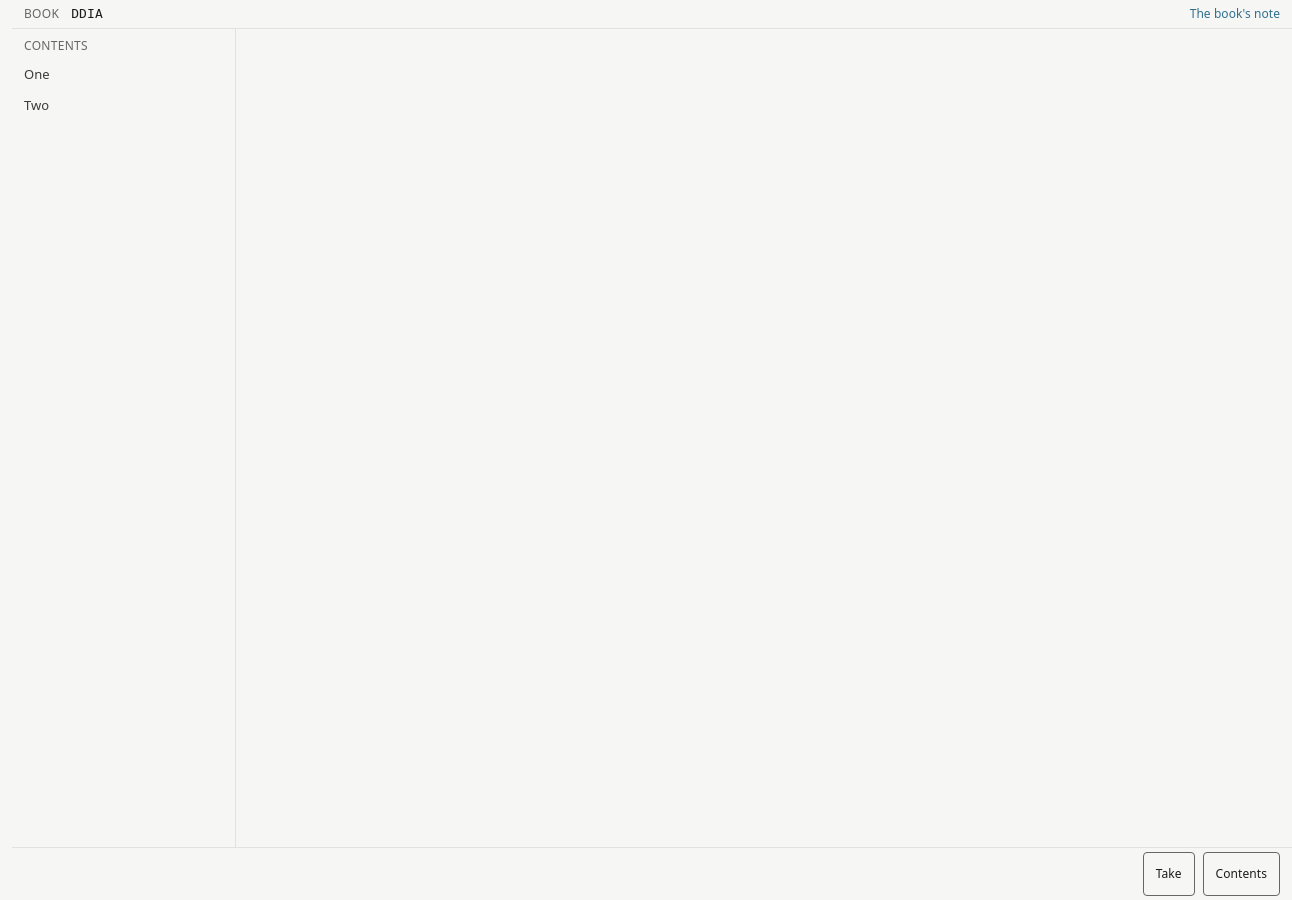
the book pane's take toast › draws the take toast over the text column and not over the footer or a column
Click the button "Take": (1169, 874) [1143,852,1194,896]
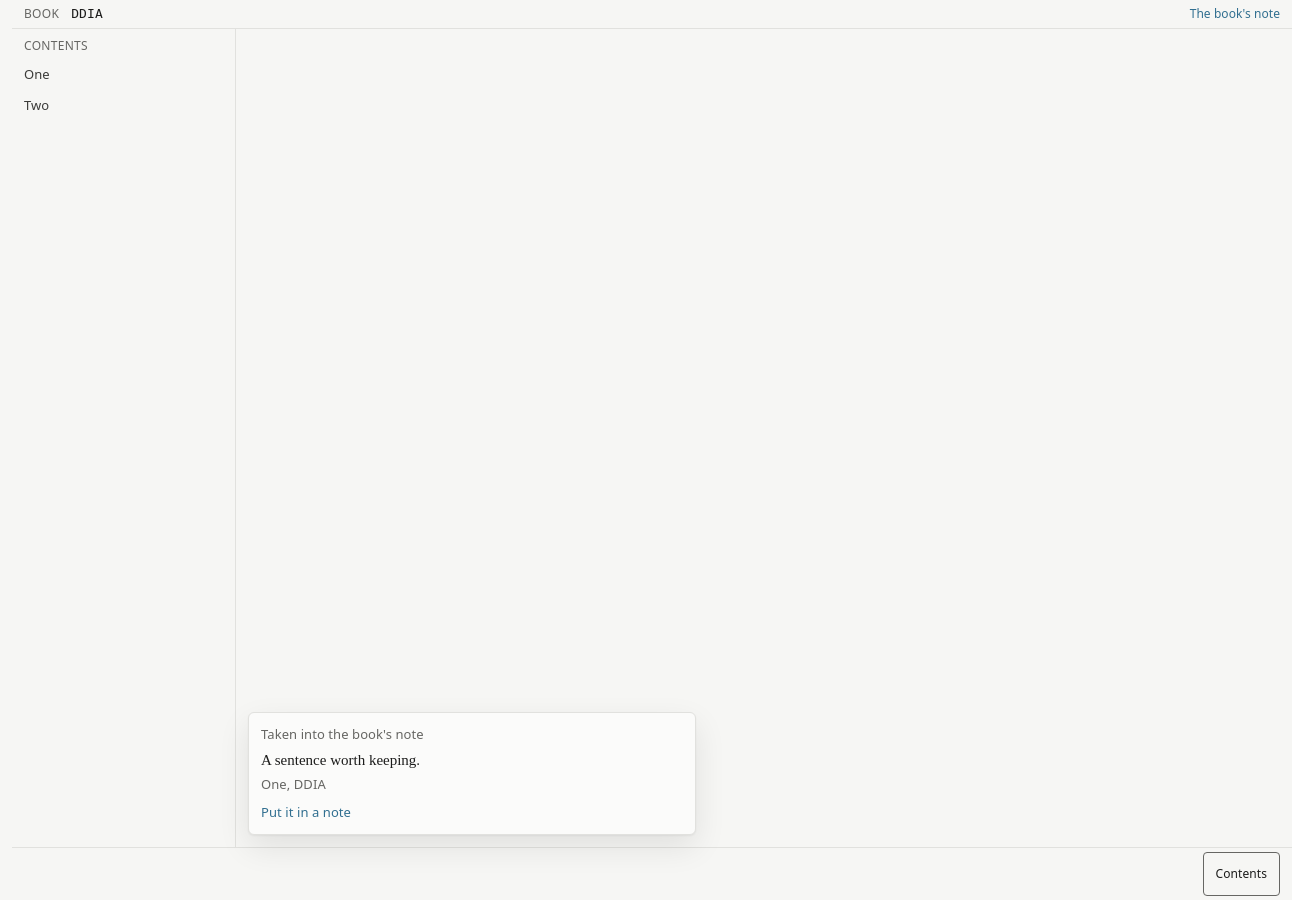
Result: the message is shown at [248,712,696,835]
